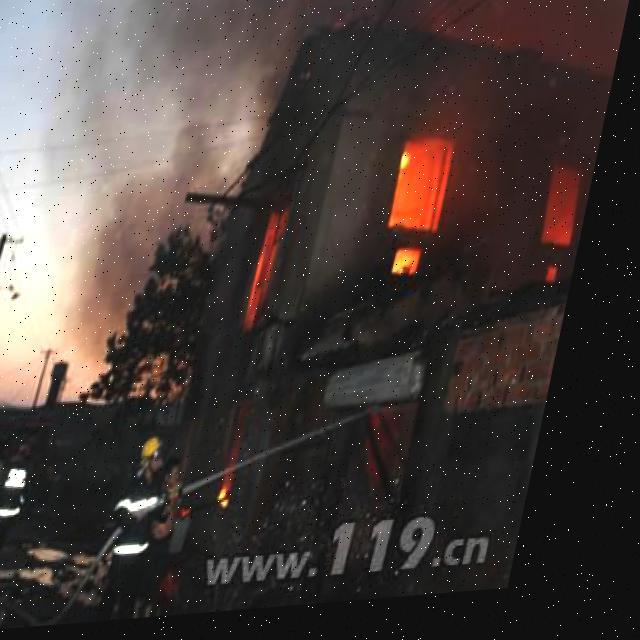Fire: (378, 132, 478, 297), (536, 166, 602, 292), (232, 486, 258, 515)
